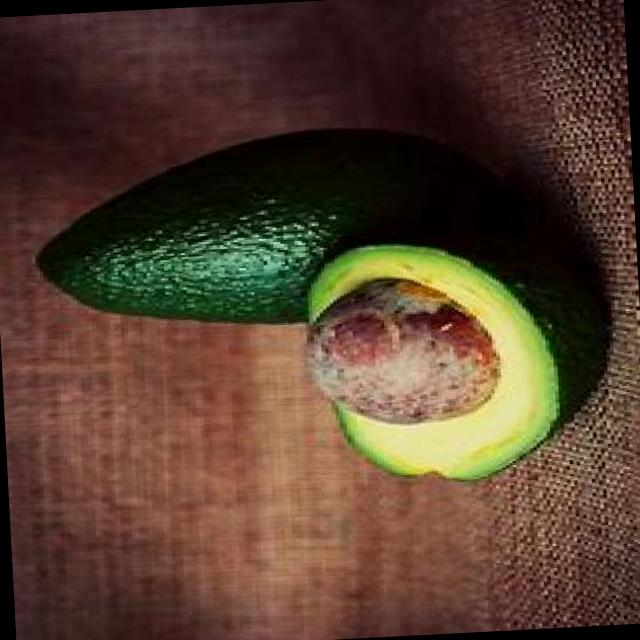avocado: (26, 114, 489, 340), (296, 238, 587, 496)
